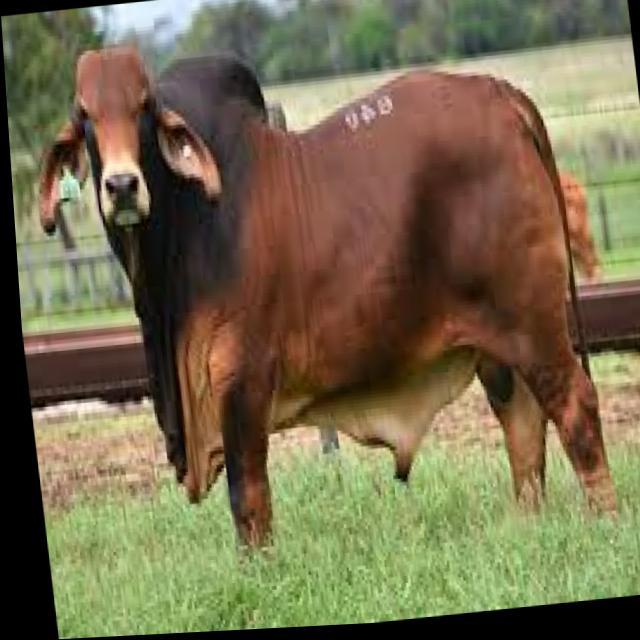cowFace: (2, 11, 235, 292)
